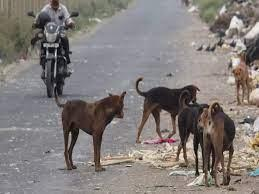normal_dogs: (48, 82, 128, 177), (174, 95, 241, 183), (133, 73, 208, 142), (226, 43, 254, 110)
